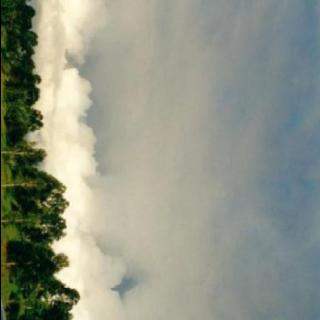Cumulus: (28, 0, 320, 320)
